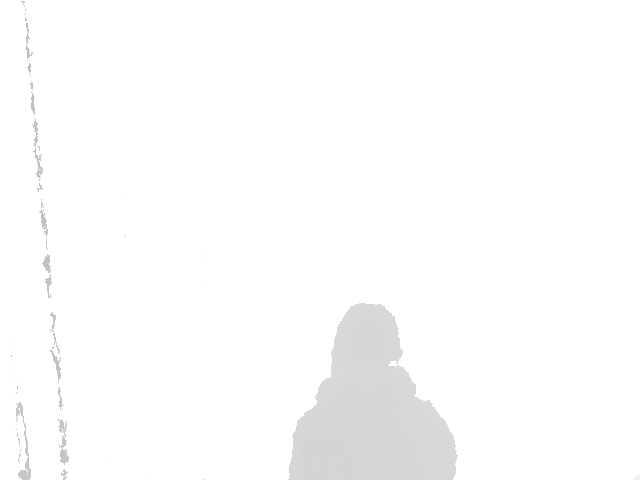head: (331, 302, 404, 402)
person: (287, 301, 460, 480)
